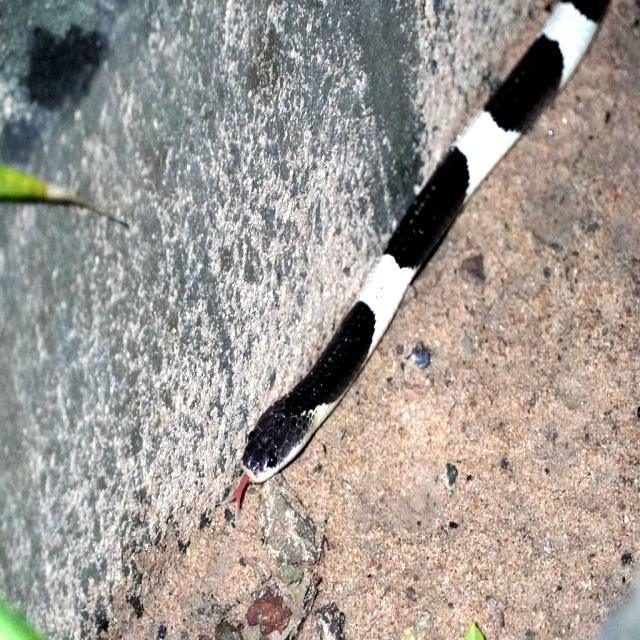Bungarus candidus: (230, 0, 608, 503)
